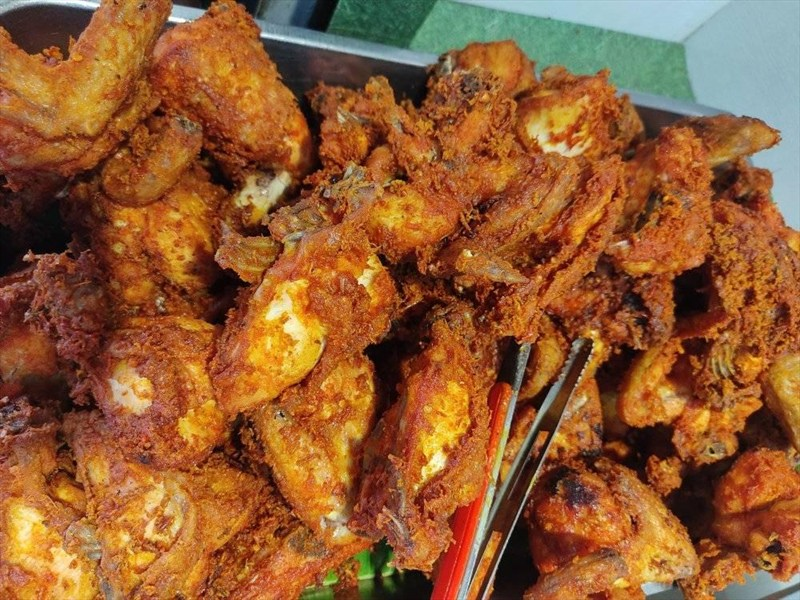Ayam Goreng: (147, 109, 703, 551)
